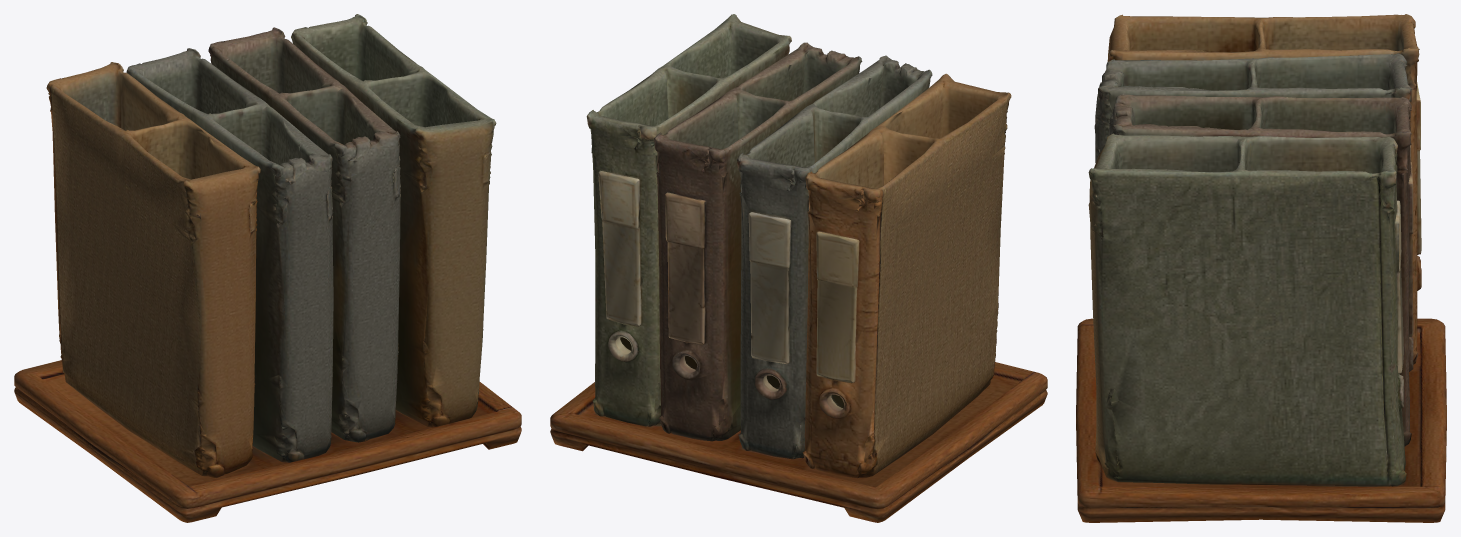
The model's file is prop-archive-boxes-v01.glb.
3 renders of one model, left to right at view 1: azimuth 30°, elevation 25°; view 2: azimuth 150°, elevation 25°; view 3: azimuth 270°, elevation 25°, orthographic. The views are drawn at different scales.
Parts seen in each view (by area): view 1: tripo_node_add75ed9-a308-489d-82f8-f0d243166c99; view 2: tripo_node_add75ed9-a308-489d-82f8-f0d243166c99; view 3: tripo_node_add75ed9-a308-489d-82f8-f0d243166c99.
Boxes of the visible parts, x1,y1,x2,y2 form: tripo_node_add75ed9-a308-489d-82f8-f0d243166c99: [14, 14, 521, 522]; tripo_node_add75ed9-a308-489d-82f8-f0d243166c99: [550, 14, 1047, 522]; tripo_node_add75ed9-a308-489d-82f8-f0d243166c99: [1076, 14, 1446, 522].
Size of the model in its own units: 0.3594 by 0.32 by 0.3102.
Materials: 1 (1 with a texture image).
